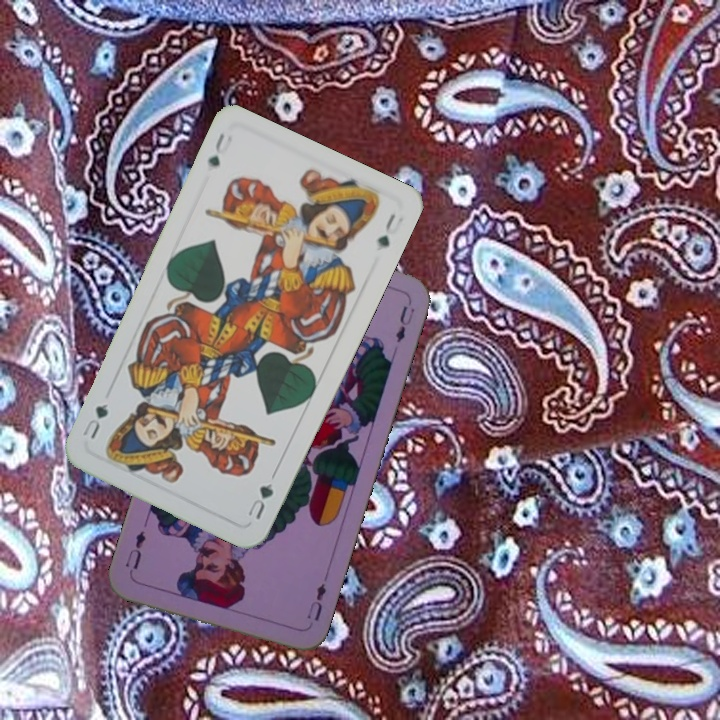EU: (303, 579, 329, 624)
GU: (242, 479, 276, 522), (203, 128, 235, 170)
